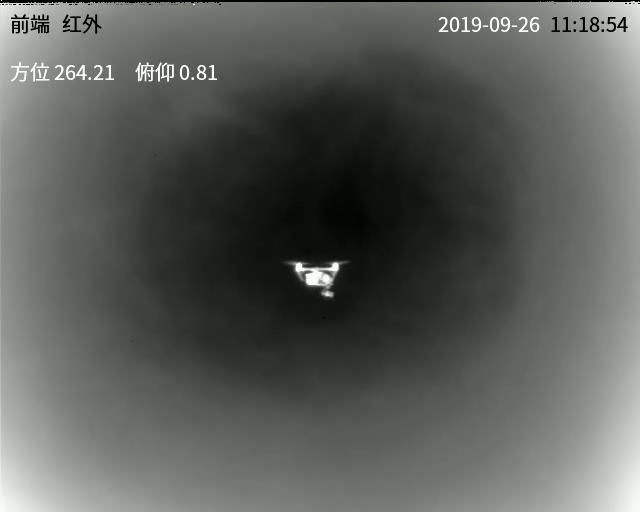uav: (280, 250, 354, 306)
